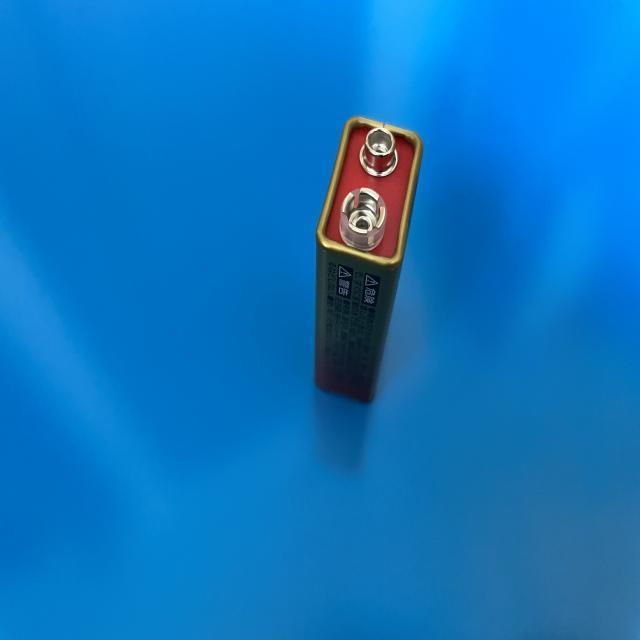9V: (314, 115, 423, 405)
